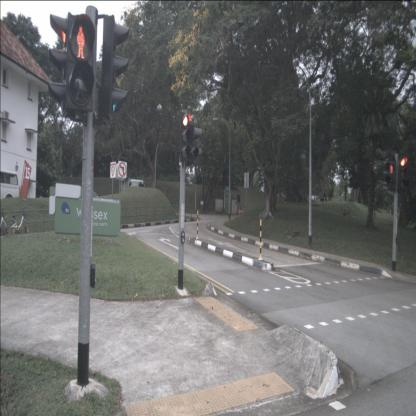vehicle-bicycle: (6, 206, 29, 235), (0, 208, 11, 236)
vehicle-car: (0, 170, 20, 204), (306, 195, 318, 205), (316, 197, 329, 206)
vehicle-truck: (121, 176, 146, 203)
